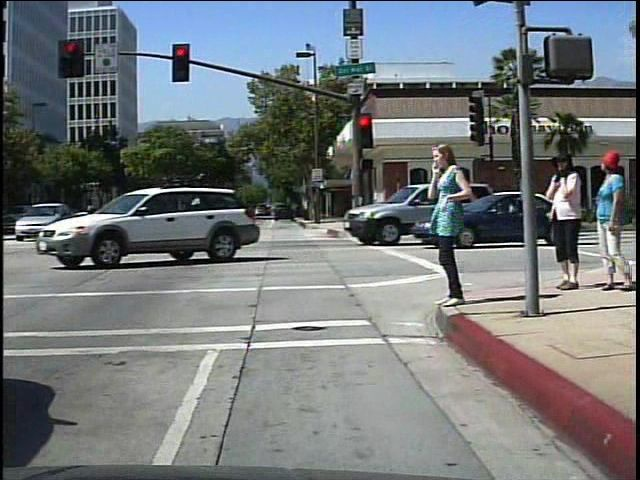person: (424, 136, 476, 309), (542, 147, 588, 295), (588, 146, 628, 295)
